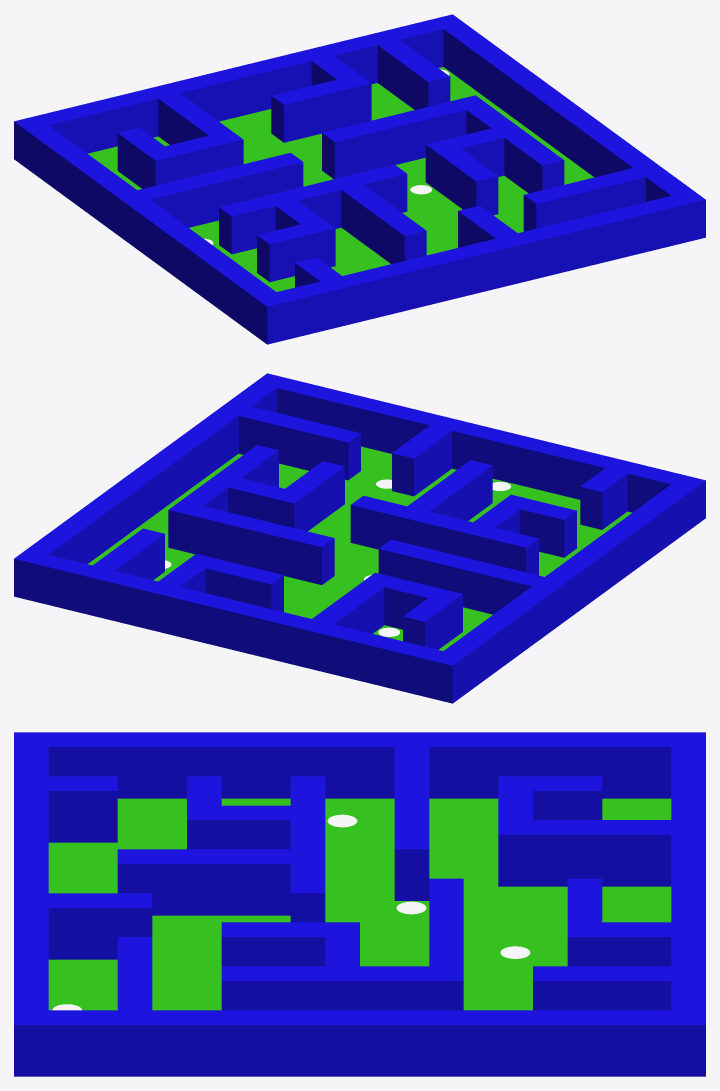
Rendered from LaberintMaterials.FBX.
3 views of the same model, one above another, from view 1: azimuth 30°, elevation 25°; view 2: azimuth 150°, elevation 25°; view 3: azimuth 270°, elevation 25° (orthographic). The views are drawn at different scales.
Visible parts, largest first — view 1: Plane001; view 2: Plane001; view 3: Plane001.
Boxes of the visible parts, x1,y1,x2,y2 form: Plane001: (14,14,705,344); Plane001: (14,373,705,703); Plane001: (14,732,705,1076).
Bounding box in the file's own units: 8235 × 680 × 8235.
